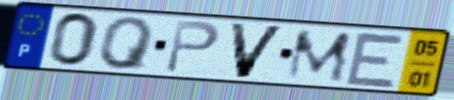0: (45, 12, 106, 68)
E: (343, 29, 409, 90)
M: (283, 29, 355, 84)
P: (162, 18, 223, 75)
Q: (98, 15, 158, 72)
V: (227, 20, 289, 80)
